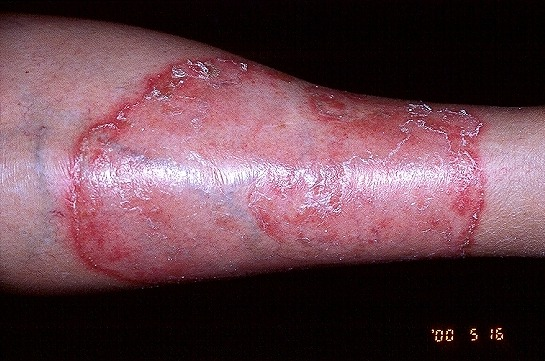Psoriasis: (63, 50, 493, 288)
